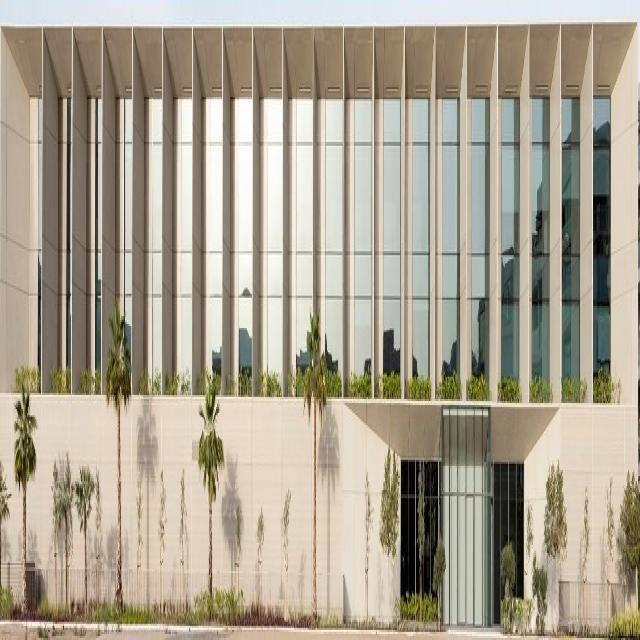door: (401, 449, 443, 619), (492, 456, 524, 625)
window: (593, 95, 612, 405), (562, 93, 581, 403), (502, 95, 521, 405), (531, 91, 550, 401), (471, 93, 489, 403), (325, 95, 343, 385), (384, 97, 401, 400), (264, 104, 281, 400), (296, 90, 312, 401), (413, 101, 430, 392), (235, 98, 252, 382), (443, 96, 459, 394), (177, 98, 193, 386), (354, 96, 370, 382), (207, 102, 223, 382), (153, 95, 163, 392), (124, 97, 132, 386), (95, 96, 102, 392), (66, 94, 72, 393)
